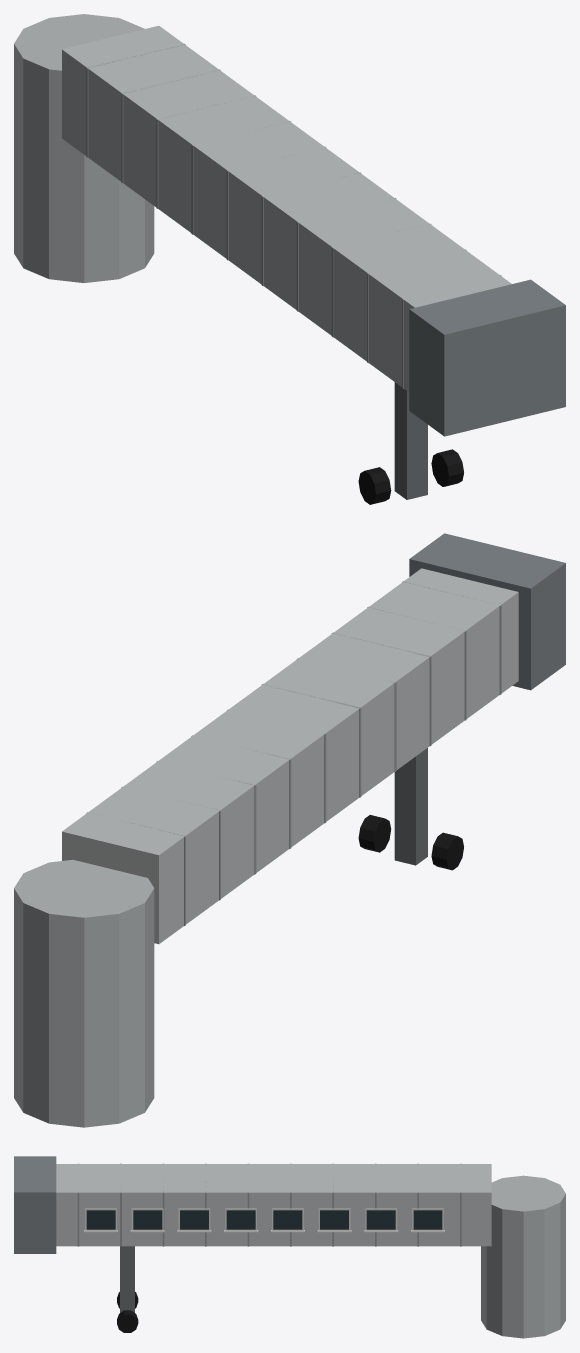
Rendered from ns_jetbridge.glb.
3 views of the same model, one above another, from view 1: azimuth 30°, elevation 25°; view 2: azimuth 150°, elevation 25°; view 3: azimuth 270°, elevation 25° (orthographic). The views are drawn at different scales.
Parts seen in each view (by area): view 1: ns_jetbridge; view 2: ns_jetbridge; view 3: ns_jetbridge.
Part boxes in pixels (x1=…): ns_jetbridge: x1=14, y1=14, x2=565, y2=504; ns_jetbridge: x1=14, y1=533, x2=565, y2=1127; ns_jetbridge: x1=14, y1=1156, x2=565, y2=1338.
Bounding box in the file's own units: 4 × 7.6 × 26.
